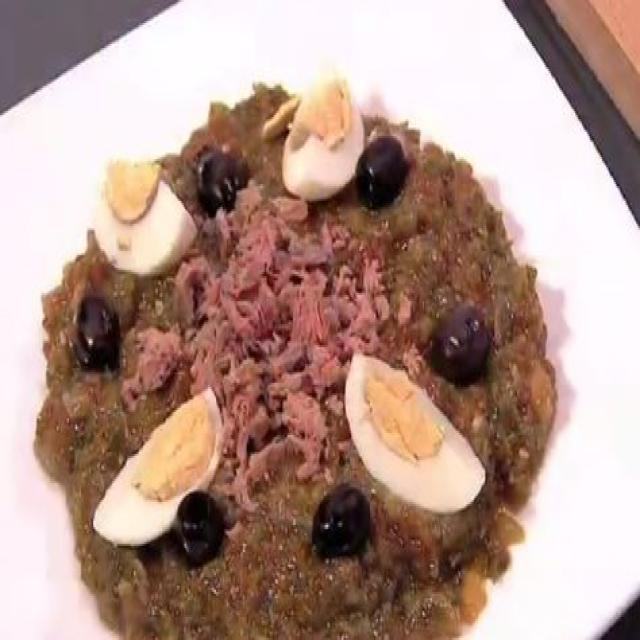Salade mechweya: (31, 60, 571, 640)
